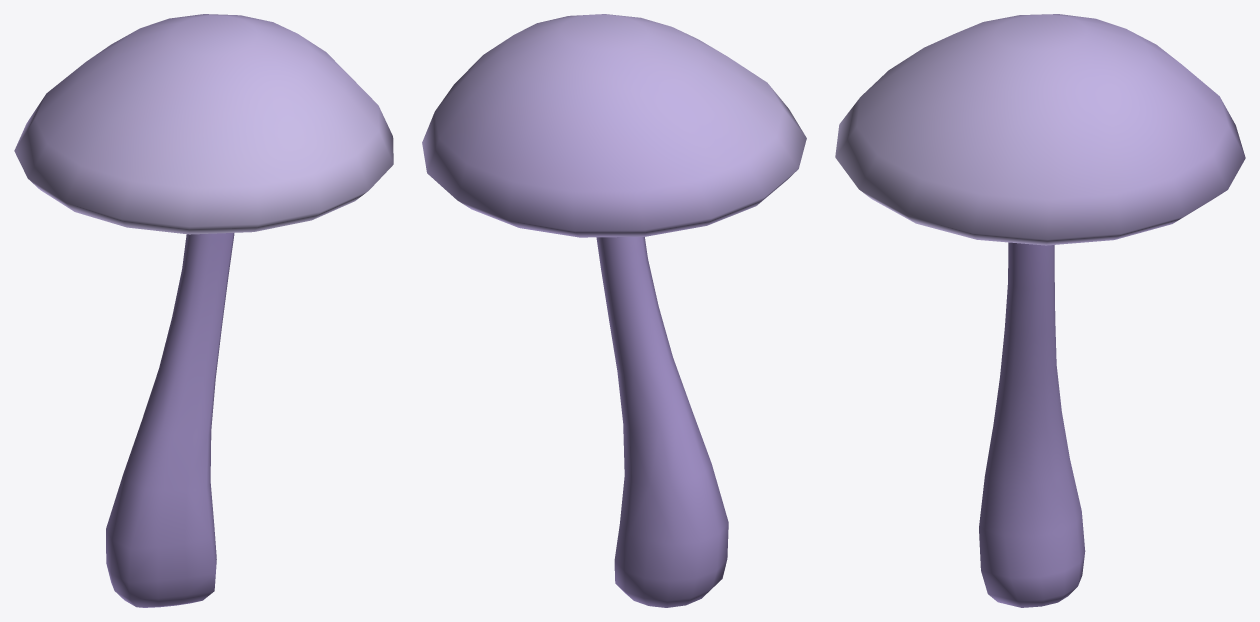
Rendered from mushroom 26.fbx.
3 views of the same model, side by side, from view 1: azimuth 30°, elevation 25°; view 2: azimuth 150°, elevation 25°; view 3: azimuth 270°, elevation 25° (orthographic). The views are drawn at different scales.
Parts seen in each view (by area): view 1: Mushroom_0001_0026; view 2: Mushroom_0001_0026; view 3: Mushroom_0001_0026.
Boxes of the visible parts, bbox=[...] form: Mushroom_0001_0026: bbox=[14, 14, 393, 607]; Mushroom_0001_0026: bbox=[422, 14, 806, 607]; Mushroom_0001_0026: bbox=[835, 14, 1245, 607].
Size of the model in its own units: 13.46 by 21.46 by 13.46.
1 material, 1 textured.
